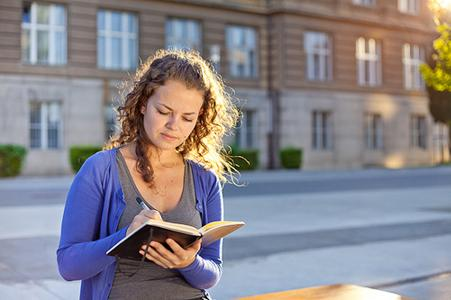person: (55, 50, 227, 299)
